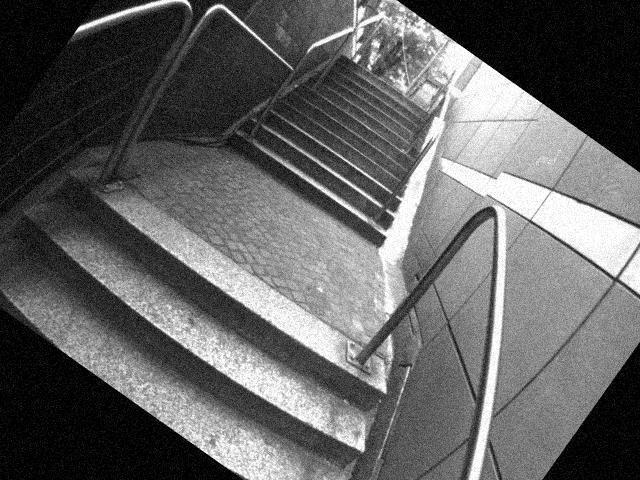Escaleras: (0, 119, 458, 480), (230, 28, 467, 251)
